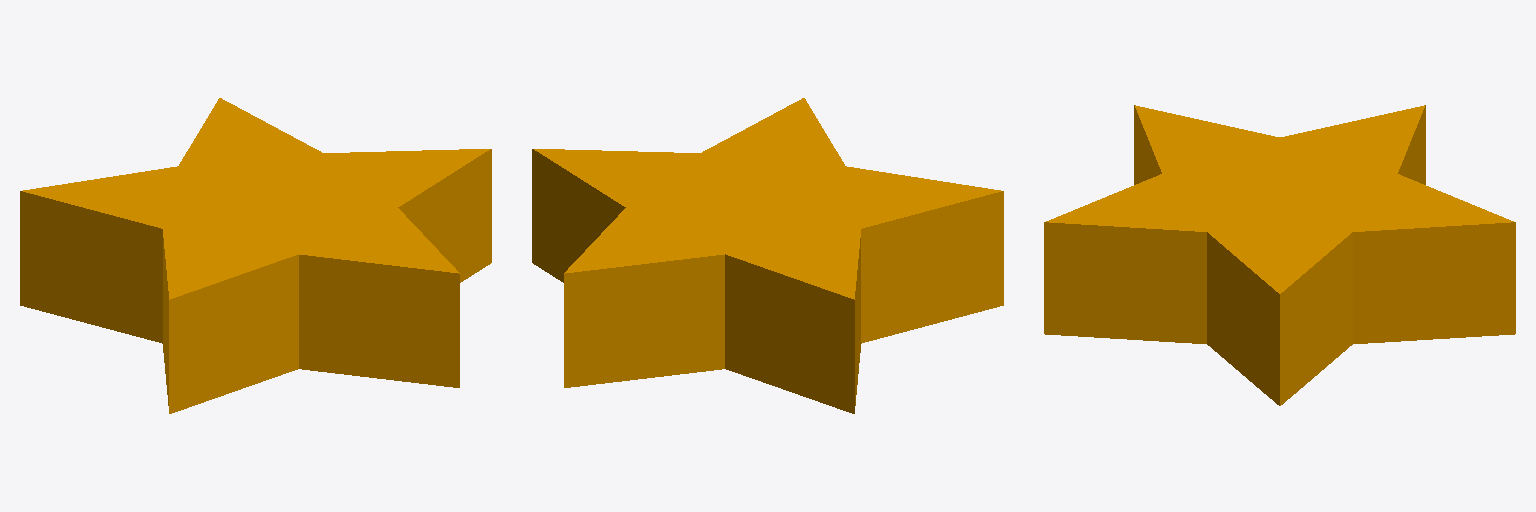
The robot description file, URDF, robot "star_prism_fixed":
<?xml version="1.0"?>
<robot name="star_prism_fixed">
  <link name="base">
    <visual>
      <geometry>
        <mesh filename="star_prism_fixed.obj" scale="0.1 0.1 0.15"/>
      </geometry>
    </visual>
    <collision>
      <geometry>
        <mesh filename="star_prism_fixed.obj" scale="0.1 0.1 0.15"/>
      </geometry>
    </collision>
    <inertial>
      <mass value="1.0"/>
      <inertia ixx="0.001" ixy="0.0" ixz="0.0"
               iyy="0.001" iyz="0.0"
               izz="0.001"/>
    </inertial>
  </link>
</robot>

--- Facts derived from the render (not from the file) ---
Views: 3 orthographic renders of the robot side by side, from view 1: azimuth 30°, elevation 25°; view 2: azimuth 150°, elevation 25°; view 3: azimuth 270°, elevation 25°.
Robot: star_prism_fixed — 1 links, 0 joints (none); root link base; default pose: all joints at 0.
Links seen in each view (by area): view 1: base; view 2: base; view 3: base.
Boxes of the visible links, x1,y1,x2,y2 form: base: (20,98,491,413); base: (532,98,1003,413); base: (1044,105,1515,405).
Size in the robot's own frame: 0.1085 by 0.1141 by 0.03 metres.
1 mesh visuals loaded from 1 distinct referenced files (1 OBJ).
